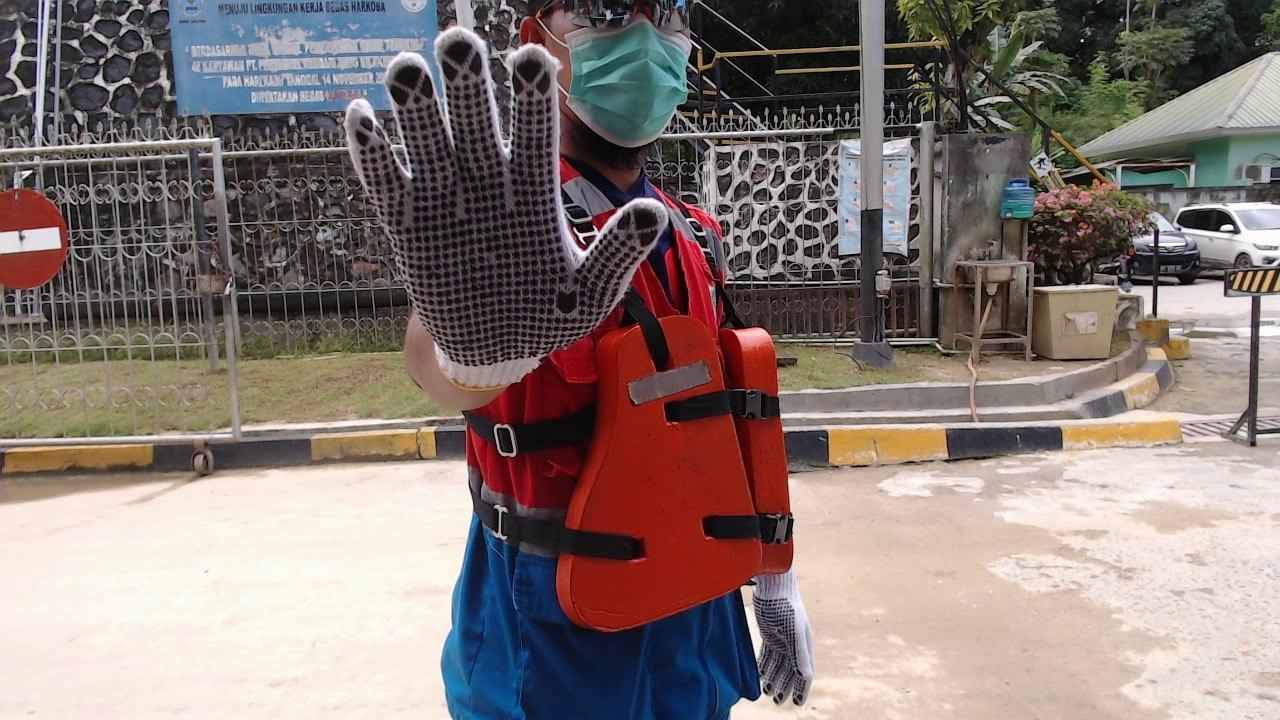vest: (555, 311, 799, 656)
